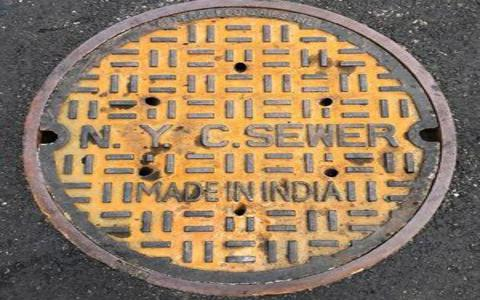proper manhole: (1, 1, 459, 289)
